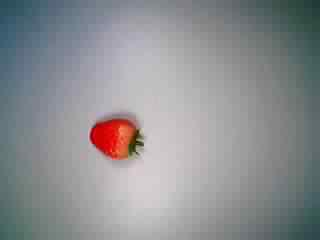strawberry: (85, 104, 153, 168)
